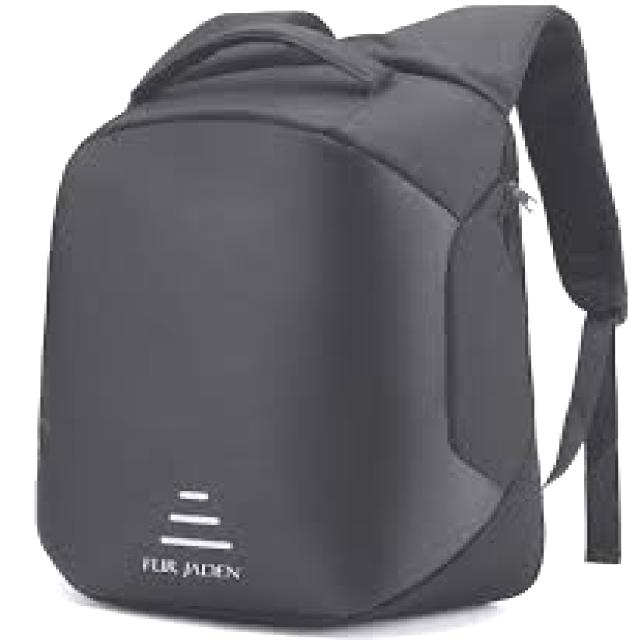backpack: (33, 1, 629, 628)
